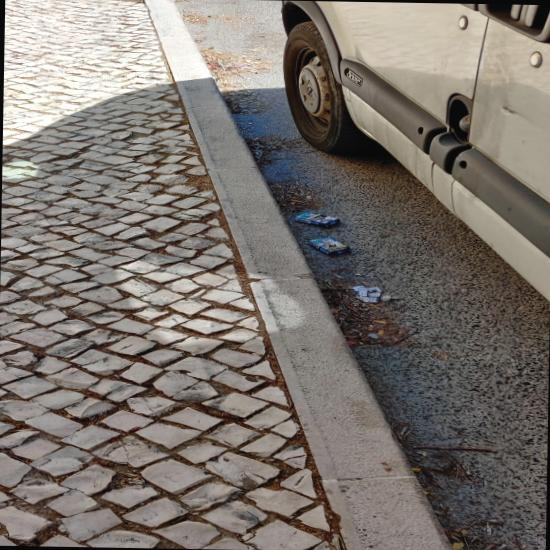Cigarette: (371, 319, 385, 324), (375, 330, 383, 335), (368, 325, 373, 330), (290, 199, 301, 201), (223, 20, 232, 22), (212, 196, 216, 200)
Other carton: (309, 236, 351, 255), (293, 212, 340, 227)
Other plastic: (352, 285, 381, 302)
